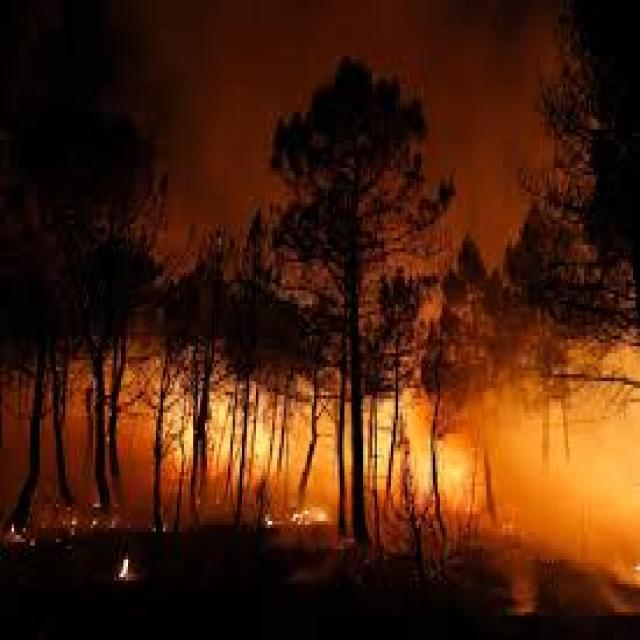Fire: (378, 388, 640, 572), (151, 386, 344, 531)
